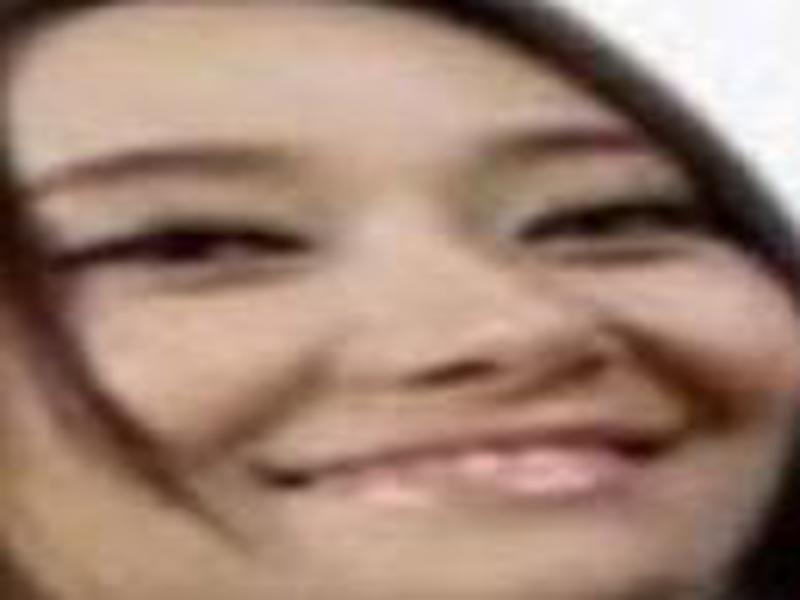without_mask: (10, 10, 789, 600)
